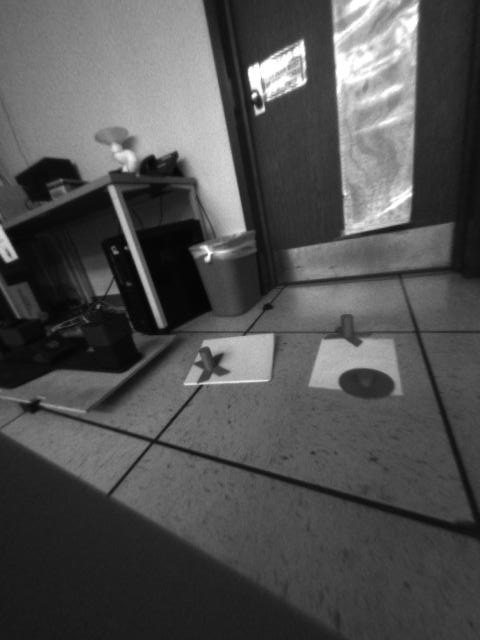X: (321, 314, 370, 347), (191, 345, 231, 381)
